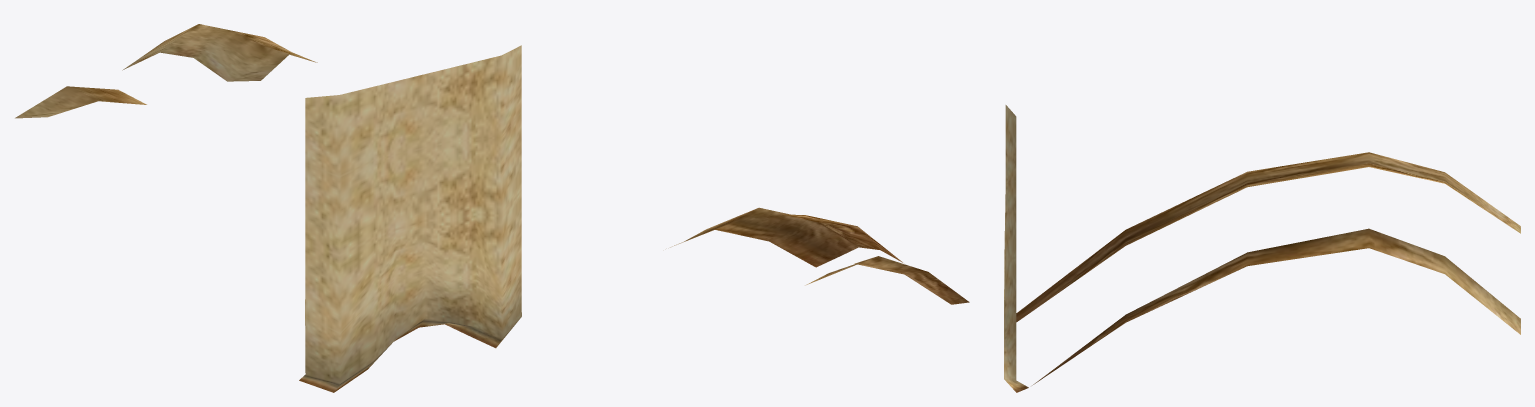
3 views of the same model, side by side, from view 1: azimuth 30°, elevation 25°; view 2: azimuth 150°, elevation 25°; view 3: azimuth 270°, elevation 25° (orthographic). The views are drawn at different scales.
Parts seen in each view (by area): view 1: model_Object07; view 2: model_Object07; view 3: model_Object07.
Boxes of the visible parts, x1,y1,x2,y2 form: model_Object07: [15, 24, 521, 392]; model_Object07: [670, 207, 969, 304]; model_Object07: [1004, 105, 1520, 392].
Size of the model in its own units: 1.55 by 1.59 by 2.54.
1 material, 1 textured.
